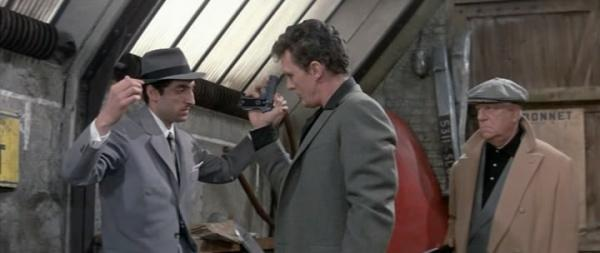Gun: (238, 73, 280, 114)
